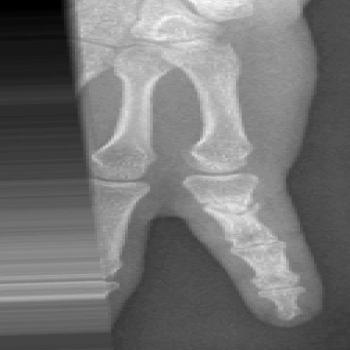Fracture: (183, 190, 282, 219)
